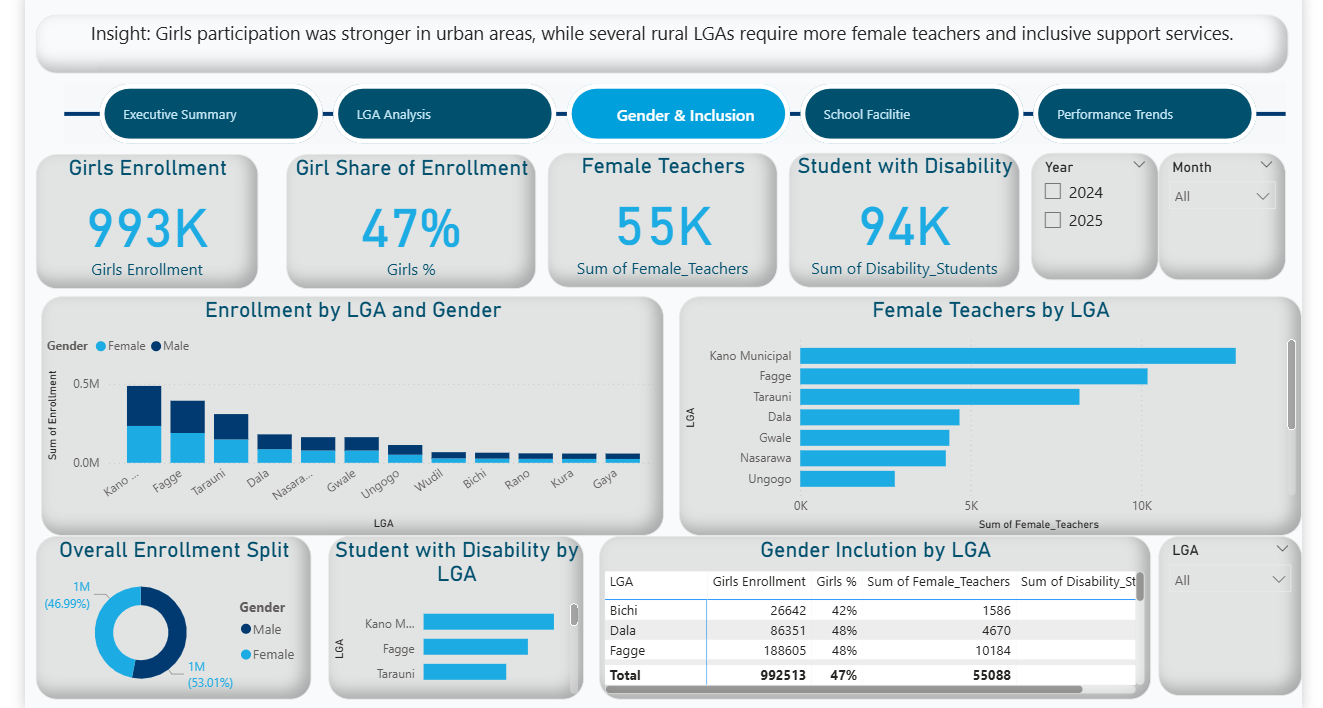

Layout of this report page (visuals, bound fields, positions):
{"tool":"powerbi","page":{"name":"Gender & Inclusion","canvas":[1280,720],"ordinal":2},"visuals":[{"type":"card","title":"Girl Share of Enrollment ","fields":{"Values":["Raw_Data.Girls %"]},"box":[262.1,161.3,250.6,135.4],"z":0},{"type":"columnChart","title":"Enrollment by LGA and Gender","fields":{"Category":["Raw_Data.LGA"],"Y":["Sum(Raw_Data.Enrollment)"],"Series":["Raw_Data.Gender"]},"box":[16,304,624,240],"z":1000},{"type":"card","title":"Girls Enrollment","fields":{"Values":["Raw_Data.Girls Enrollment"]},"box":[11.5,161.3,223.2,135.4],"z":2000},{"type":"card","title":"Female Teachers","fields":{"Values":["Sum(Raw_Data.Female_Teachers)"]},"box":[524.2,160.6,230.4,135.4],"z":3000},{"type":"clusteredBarChart","title":"Female Teachers by LGA","fields":{"Category":["Raw_Data.LGA"],"Y":["Sum(Raw_Data.Female_Teachers)"]},"box":[656,304,624,240],"z":3000},{"type":"donutChart","title":"Overall Enrollment Split","fields":{"Category":["Raw_Data.Gender"],"Y":["Sum(Raw_Data.Enrollment)"]},"box":[11.5,544.3,276.5,164.2],"z":4000},{"type":"card","title":"Student with Disability","fields":{"Values":["Sum(Raw_Data.Disability_Students)"]},"box":[765.9,160.6,232,135.4],"z":5000},{"type":"barChart","title":"Student with Disability by LGA","fields":{"Y":["Sum(Raw_Data.Disability_Students)"],"Category":["Raw_Data.LGA"]},"box":[303.8,544.3,256.3,164.2],"z":5000},{"type":"pivotTable","title":"Gender Inclution by LGA","fields":{"Rows":["Raw_Data.LGA"],"Values":["Raw_Data.Girls Enrollment","Raw_Data.Girls %","Sum(Raw_Data.Female_Teachers)","Sum(Raw_Data.Disability_Students)"]},"box":[576,544.3,553,164.2],"z":6000},{"type":"slicer","fields":{"Values":["Raw_Data.Year"]},"box":[1008,160,128,128],"z":7000},{"type":"slicer","fields":{"Values":["Raw_Data.Month"]},"box":[1136,160,128,128],"z":8000},{"type":"slicer","fields":{"Values":["Raw_Data.LGA"]},"box":[1136,544,144,160],"z":9000},{"type":"textbox","box":[11.5,21.6,1255.7,59],"z":10000},{"type":"shape","box":[38.9,90.7,1224,60.5],"z":14000},{"type":"pageNavigator","box":[74.9,90.3,1160.6,60.5],"z":15000}]}

Visuals, with their boxes on the page's 1280x720 design canvas (x1, y1, x2, y2). These are canvas units, not pixel positions in the 1323x708 screenshot, which may show the page scaled, cropped or inside an application window:
"Girl Share of Enrollment " card: 262,161,513,297
"Enrollment by LGA and Gender" columnChart: 16,304,640,544
"Girls Enrollment" card: 12,161,235,297
"Female Teachers" card: 524,161,755,296
"Female Teachers by LGA" clusteredBarChart: 656,304,1280,544
"Overall Enrollment Split" donutChart: 12,544,288,708
"Student with Disability" card: 766,161,998,296
"Student with Disability by LGA" barChart: 304,544,560,708
"Gender Inclution by LGA" pivotTable: 576,544,1129,708
slicer - Raw_Data.Year: 1008,160,1136,288
slicer - Raw_Data.Month: 1136,160,1264,288
slicer - Raw_Data.LGA: 1136,544,1280,704
textbox: 12,22,1267,81
shape: 39,91,1263,151
pageNavigator: 75,90,1236,151
